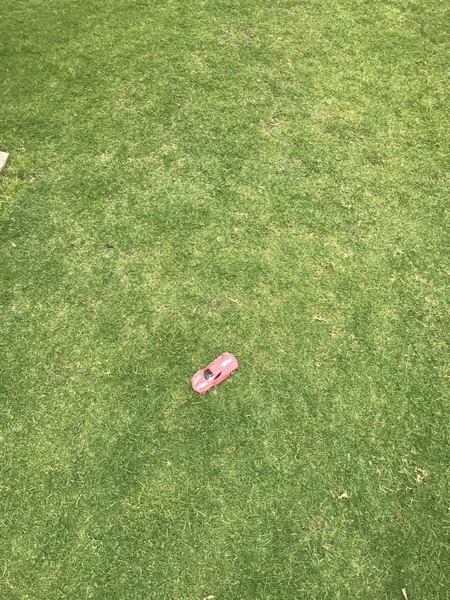RC: (191, 351, 241, 397)
